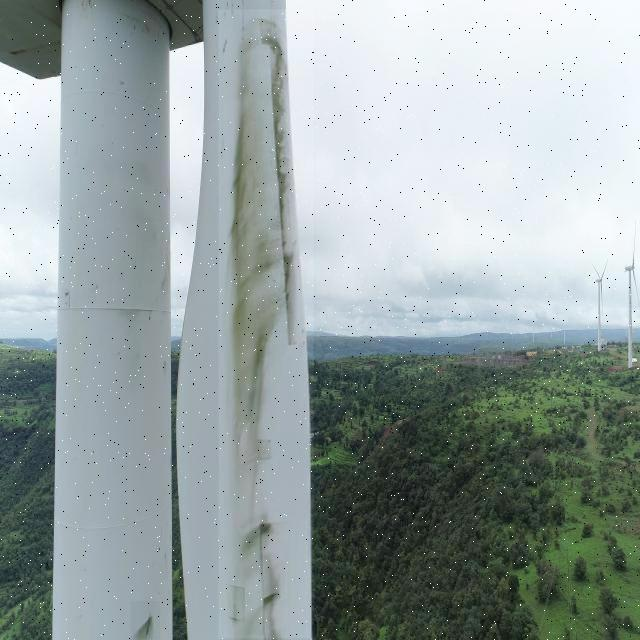Dirt: (225, 21, 307, 640)
Pin Hole: (141, 618, 157, 637), (261, 592, 280, 608), (255, 521, 274, 533)
